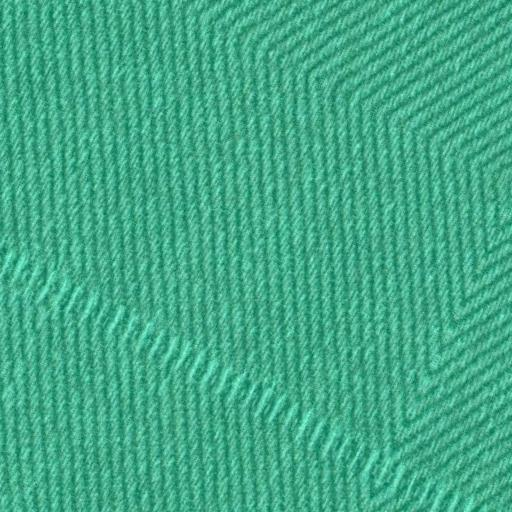slub: (2, 238, 491, 512)
